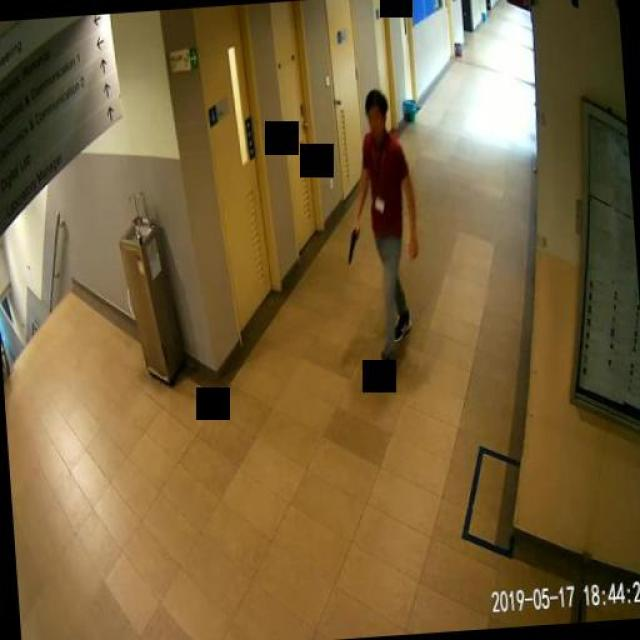gun: (345, 224, 361, 264)
